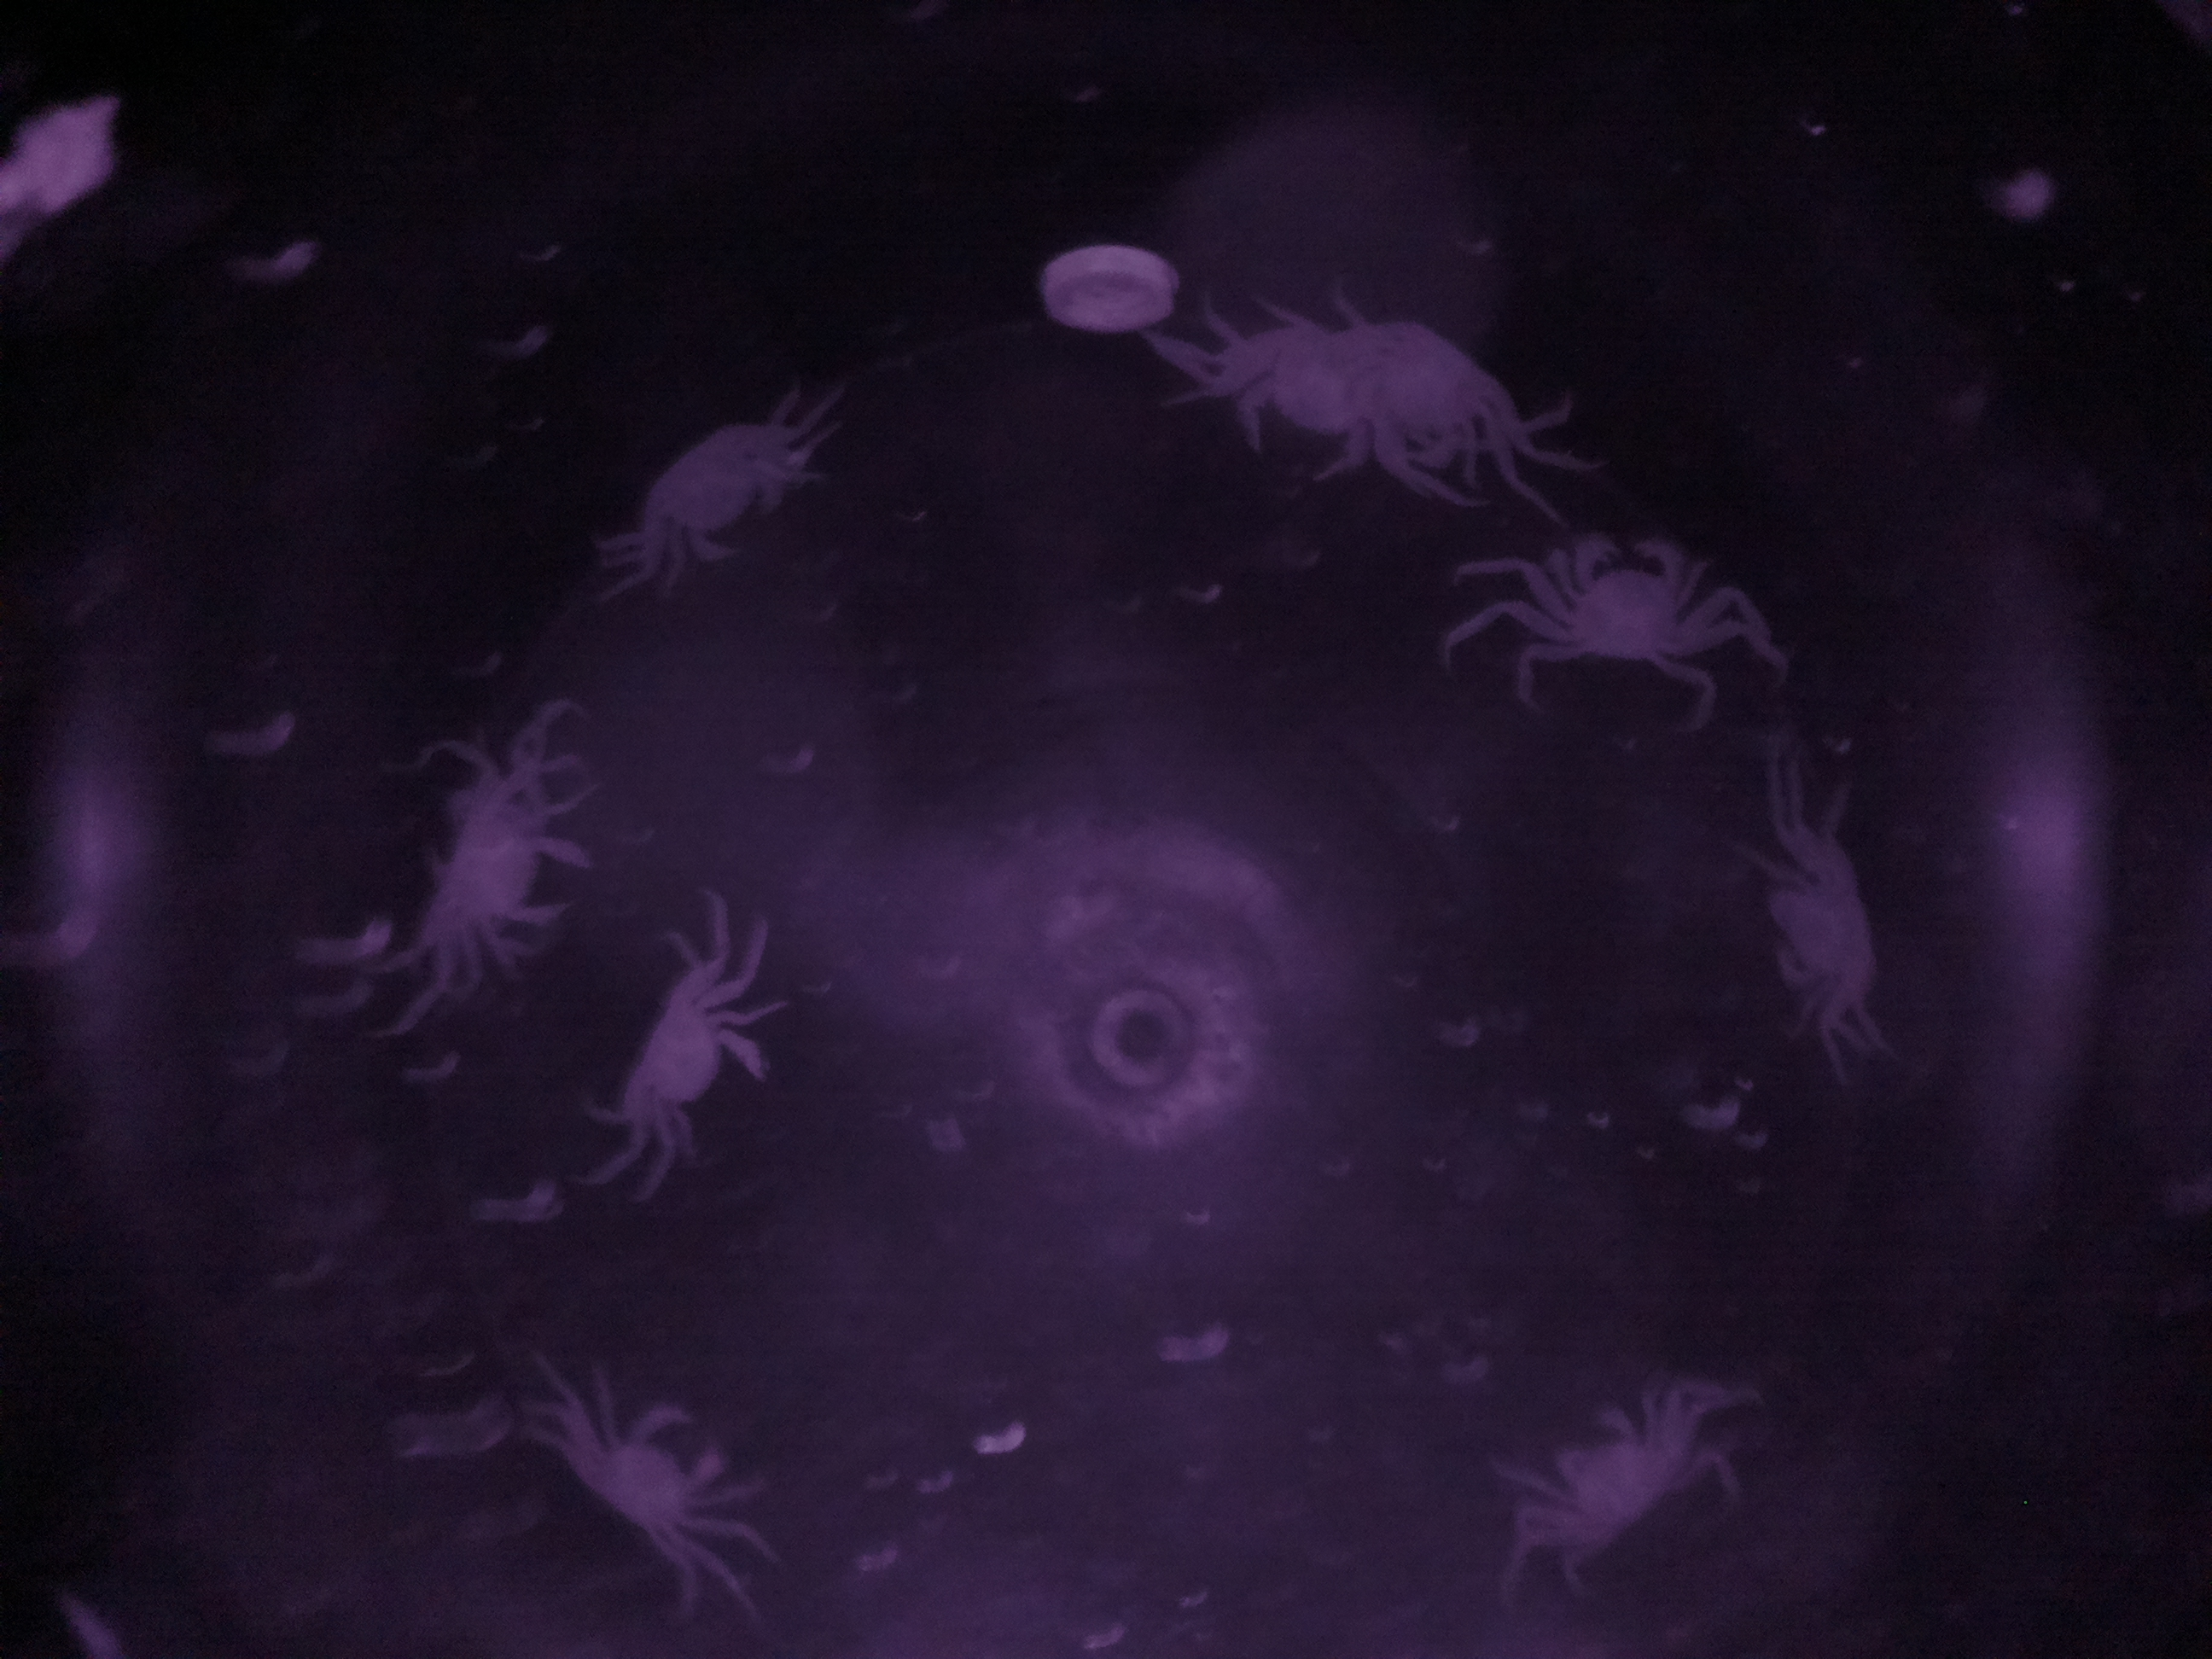Crab: (1487, 514, 1742, 694)
